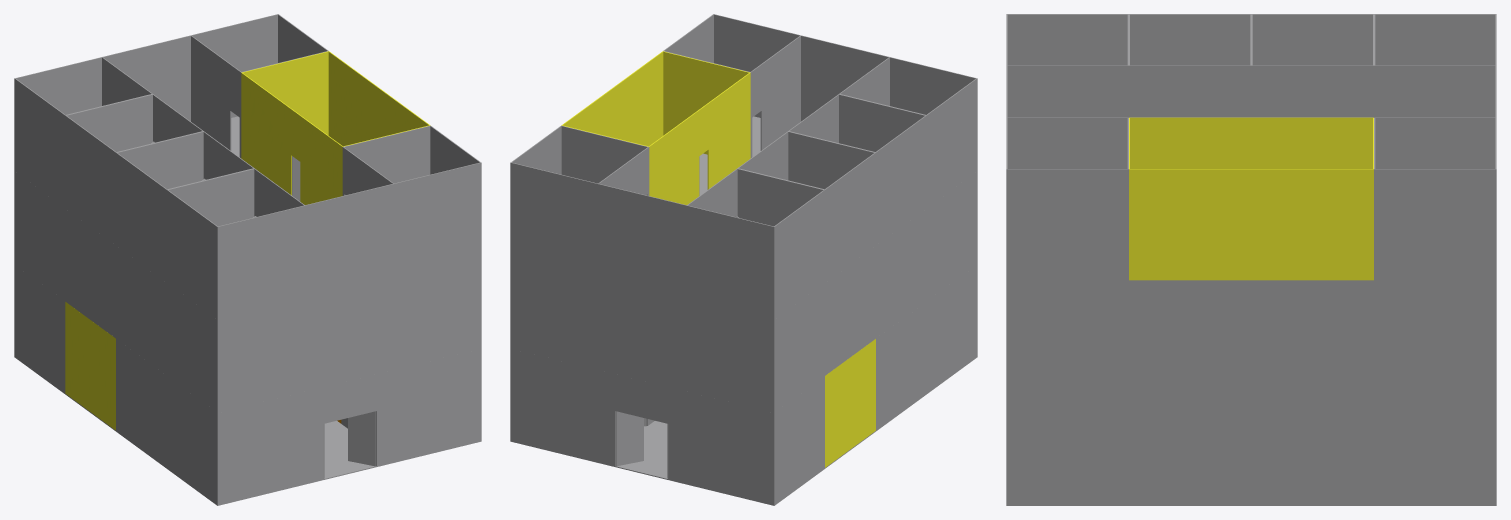
Rendered from 第一组.glb.
The picture shows the model from 3 angles, left to right: view 1: azimuth 30°, elevation 25°; view 2: azimuth 150°, elevation 25°; view 3: azimuth 270°, elevation 25°; orthographic projection. The views are drawn at different scales.
Bounding box in the file's own units: 0.015 × 0.0151 × 0.02.
